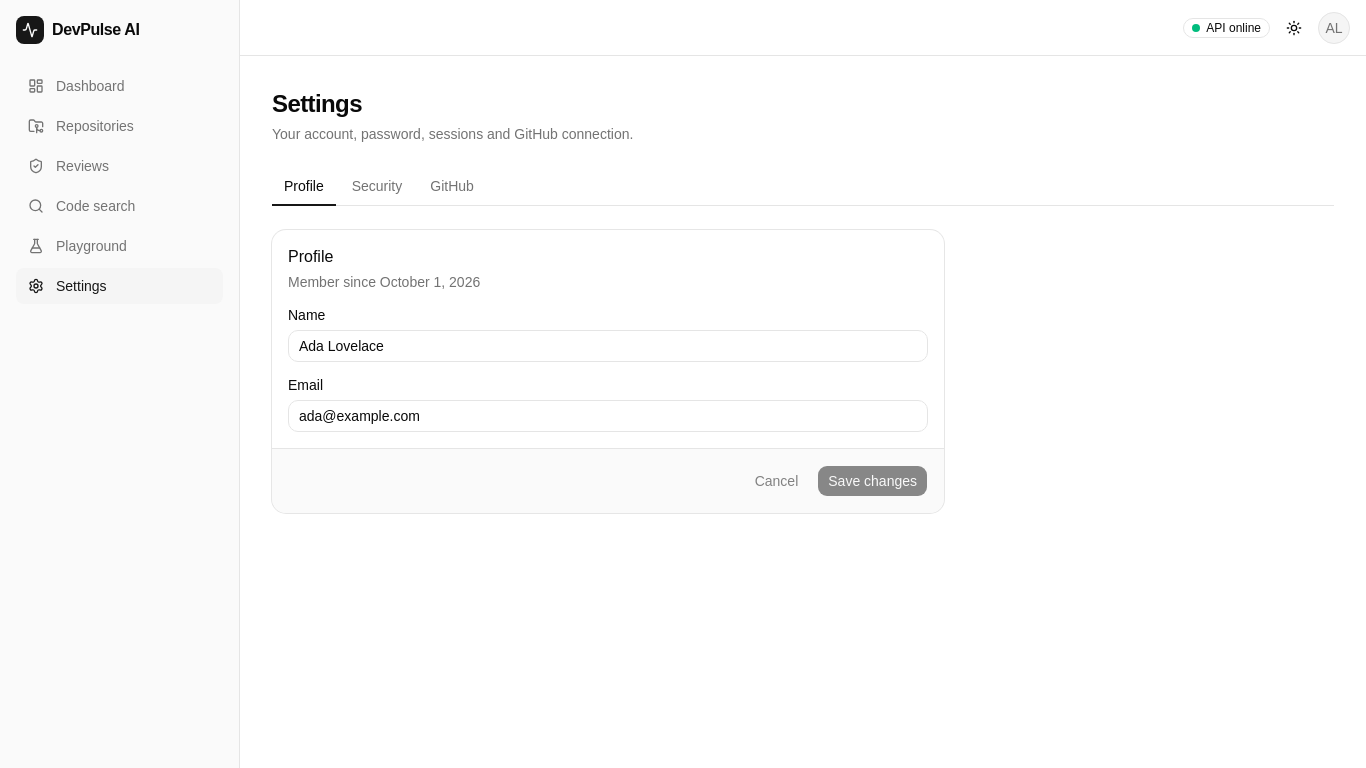
Scenario: Settings › switches between sections with the tabs
Click the link "Security": click(377, 186) x1=352 y1=178 x2=402 y2=194
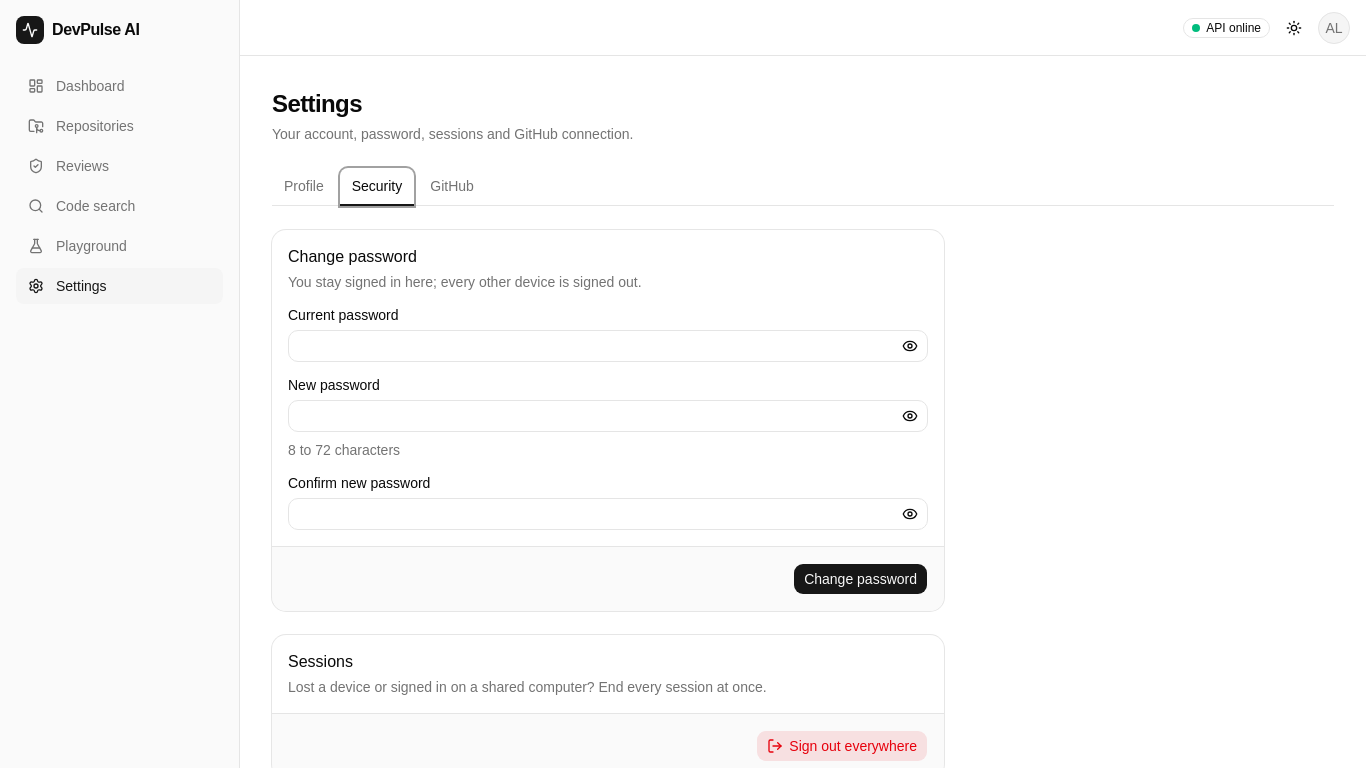
Result: the heading "Change password" is shown at x1=288 y1=248 x2=417 y2=265
